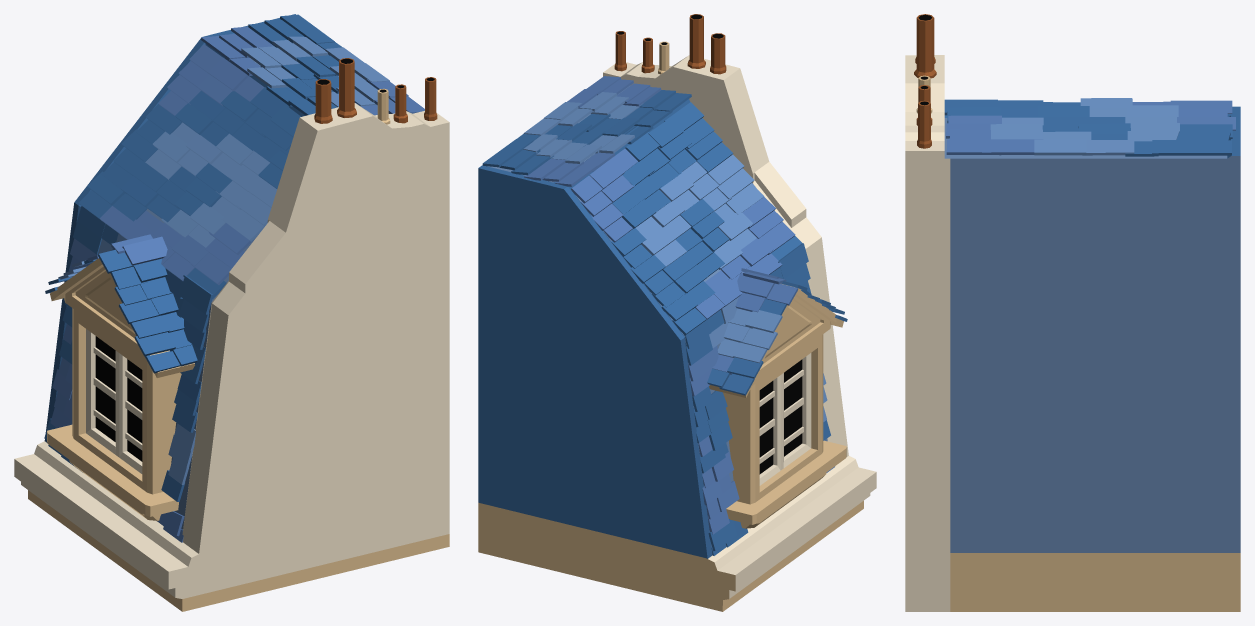
The model's file is RoofEdge_C_1.fbx.
The picture shows the model from 3 angles, left to right: view 1: azimuth 30°, elevation 25°; view 2: azimuth 150°, elevation 25°; view 3: azimuth 270°, elevation 25°; orthographic projection. The views are drawn at different scales.
Visible parts, largest first — view 1: RoofEdge_C_1; view 2: RoofEdge_C_1; view 3: RoofEdge_C_1.
Boxes of the visible parts, bbox=[...] form: RoofEdge_C_1: bbox=[14, 14, 449, 611]; RoofEdge_C_1: bbox=[478, 14, 876, 611]; RoofEdge_C_1: bbox=[905, 14, 1240, 611].
Size of the model in its own units: 210 by 200 by 359.
